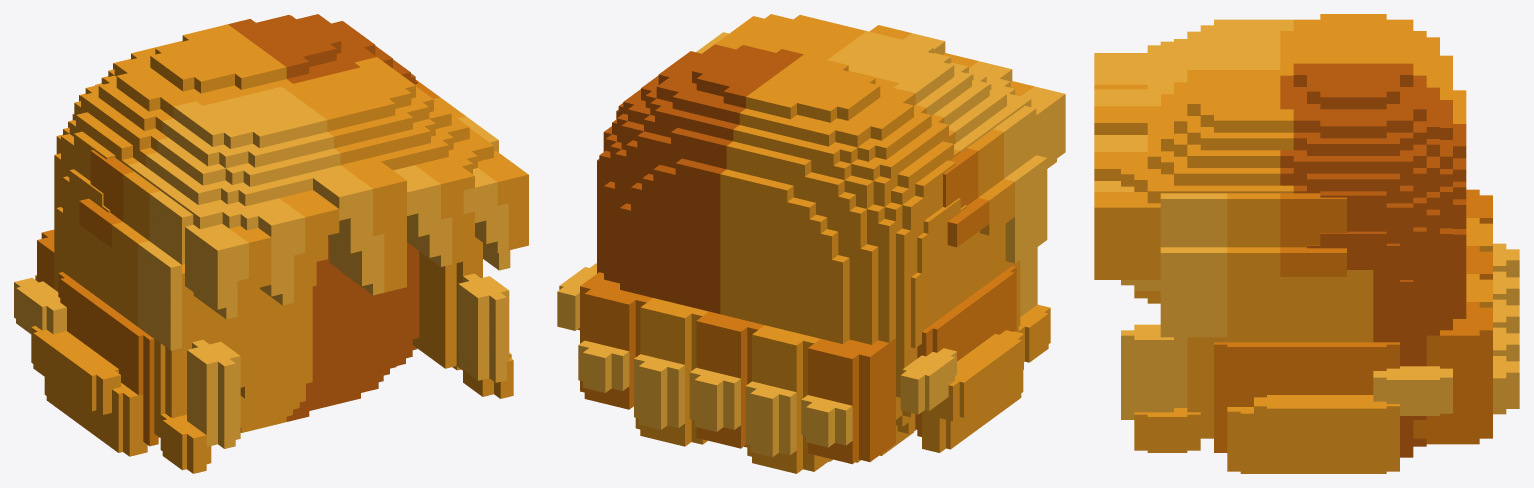
The model's file is blast_girl_hair.glb.
3 views of the same model, side by side, from view 1: azimuth 30°, elevation 25°; view 2: azimuth 150°, elevation 25°; view 3: azimuth 270°, elevation 25° (orthographic). The views are drawn at different scales.
Visible parts, largest first — view 1: BlastGirl_Hair; view 2: BlastGirl_Hair; view 3: BlastGirl_Hair.
Boxes of the visible parts, x1=… form: BlastGirl_Hair: x1=14, y1=14, x2=528, y2=473; BlastGirl_Hair: x1=557, y1=14, x2=1065, y2=473; BlastGirl_Hair: x1=1094, y1=14, x2=1519, y2=473.
Bounding box in the file's own units: 0.8673 × 0.7489 × 0.7988.
1 material, 1 textured.
